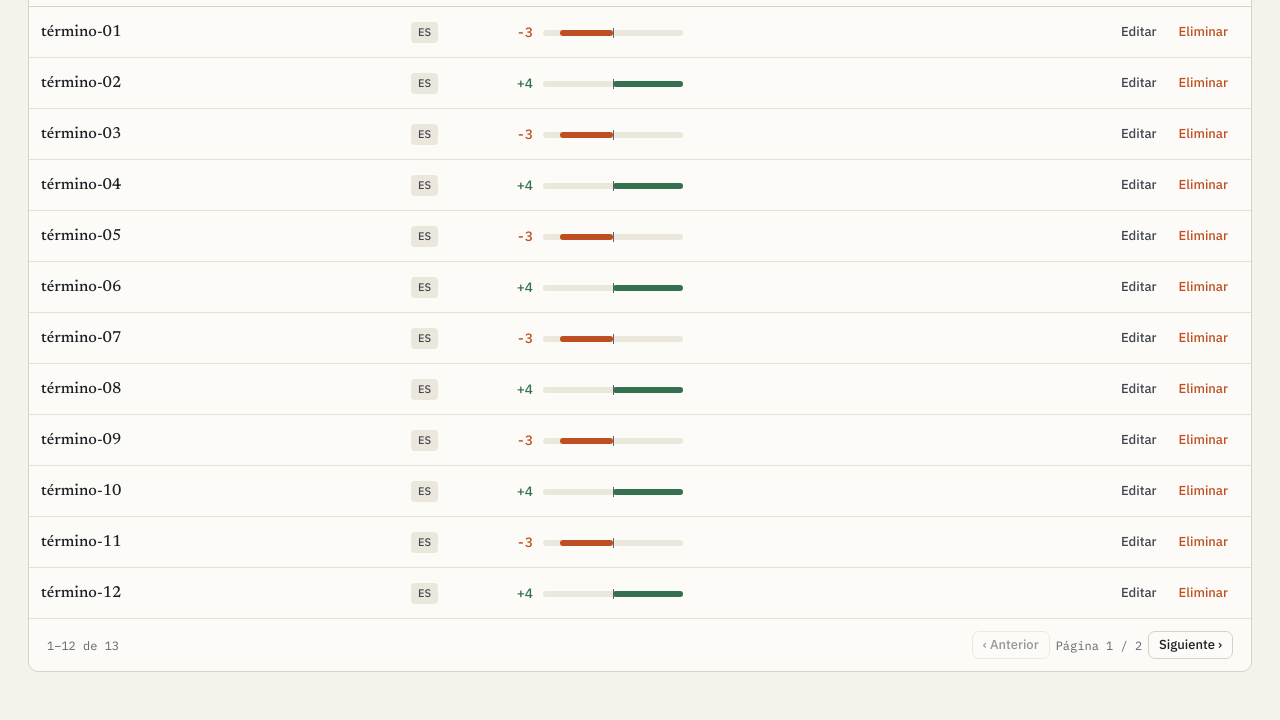
Test: DictionaryPage › paginates twelve rows and resets to the first page when the filter changes
(page scrolled)
Expected: the text "término-01" is shown, [41,24,121,40]
Click the button with aria-label "Página siguiente" at (1191, 645), box [1148,631,1233,659]
(page scrolled)
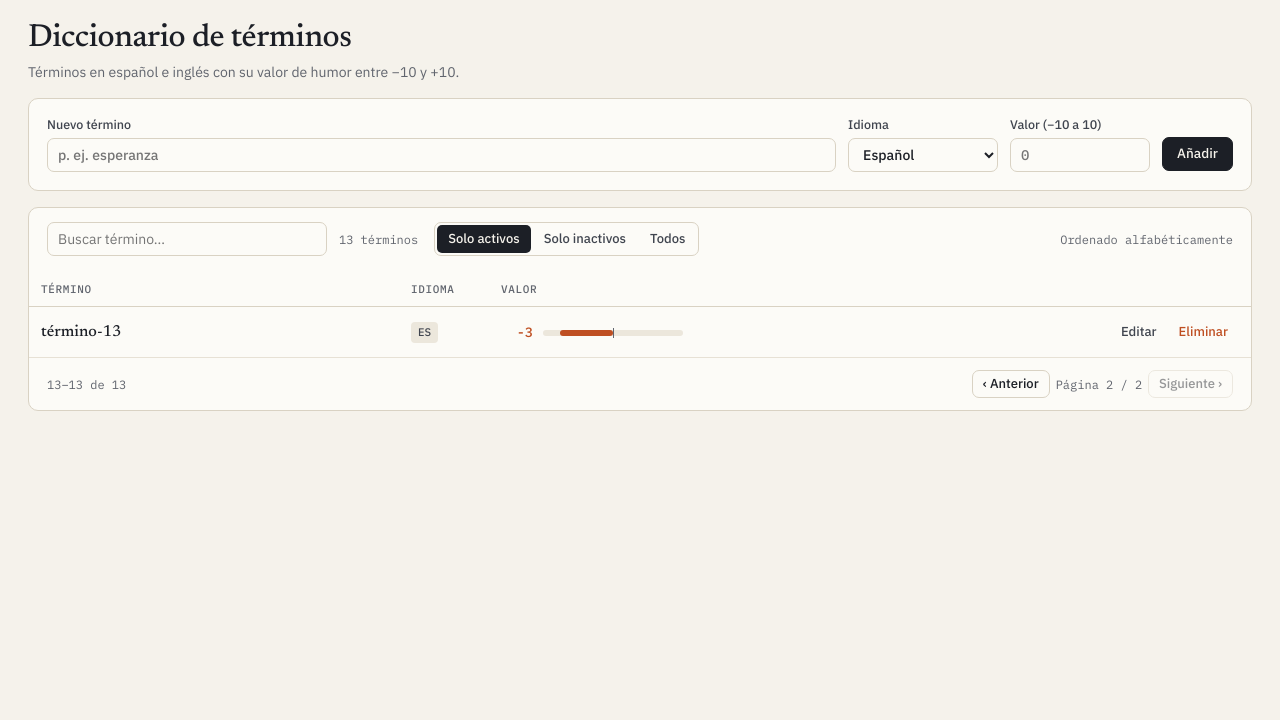
Expected: the text "término-13" is shown, [41,324,121,340]
Click the button "Solo inactivos" at (585, 239), box [533,225,637,253]
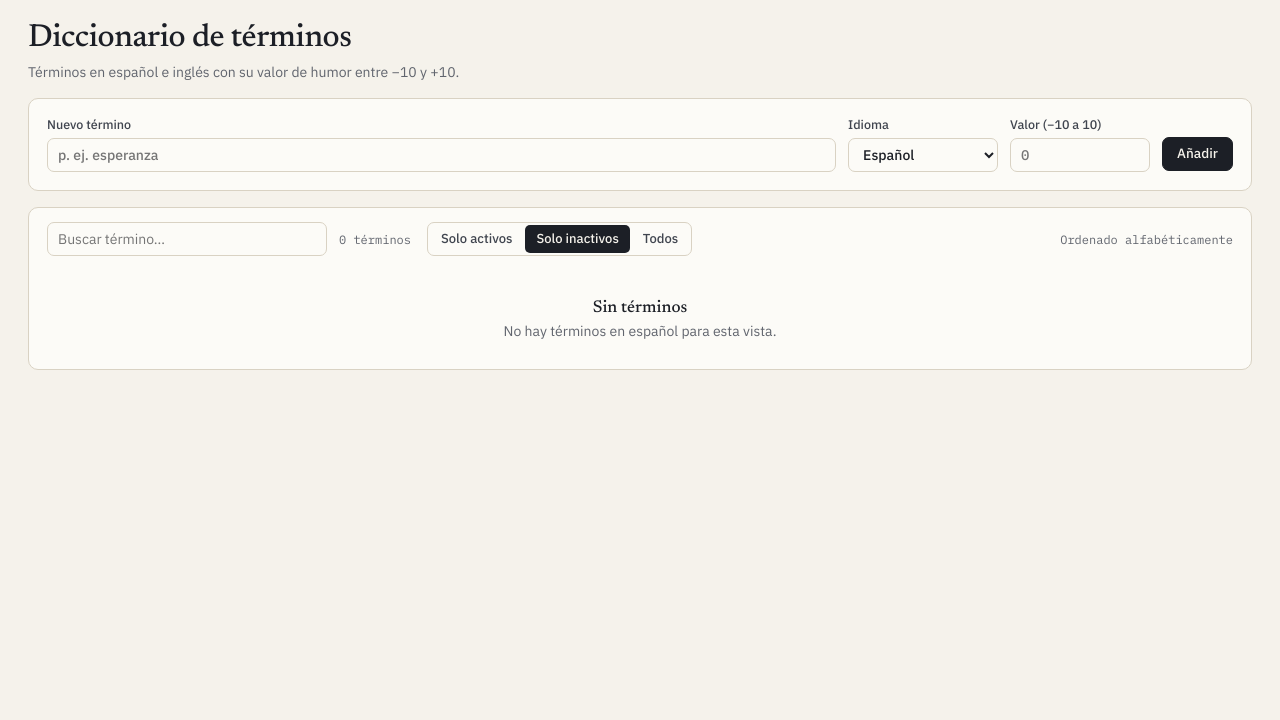
Expected: the text "Sin términos" is shown, [593,300,687,317]
